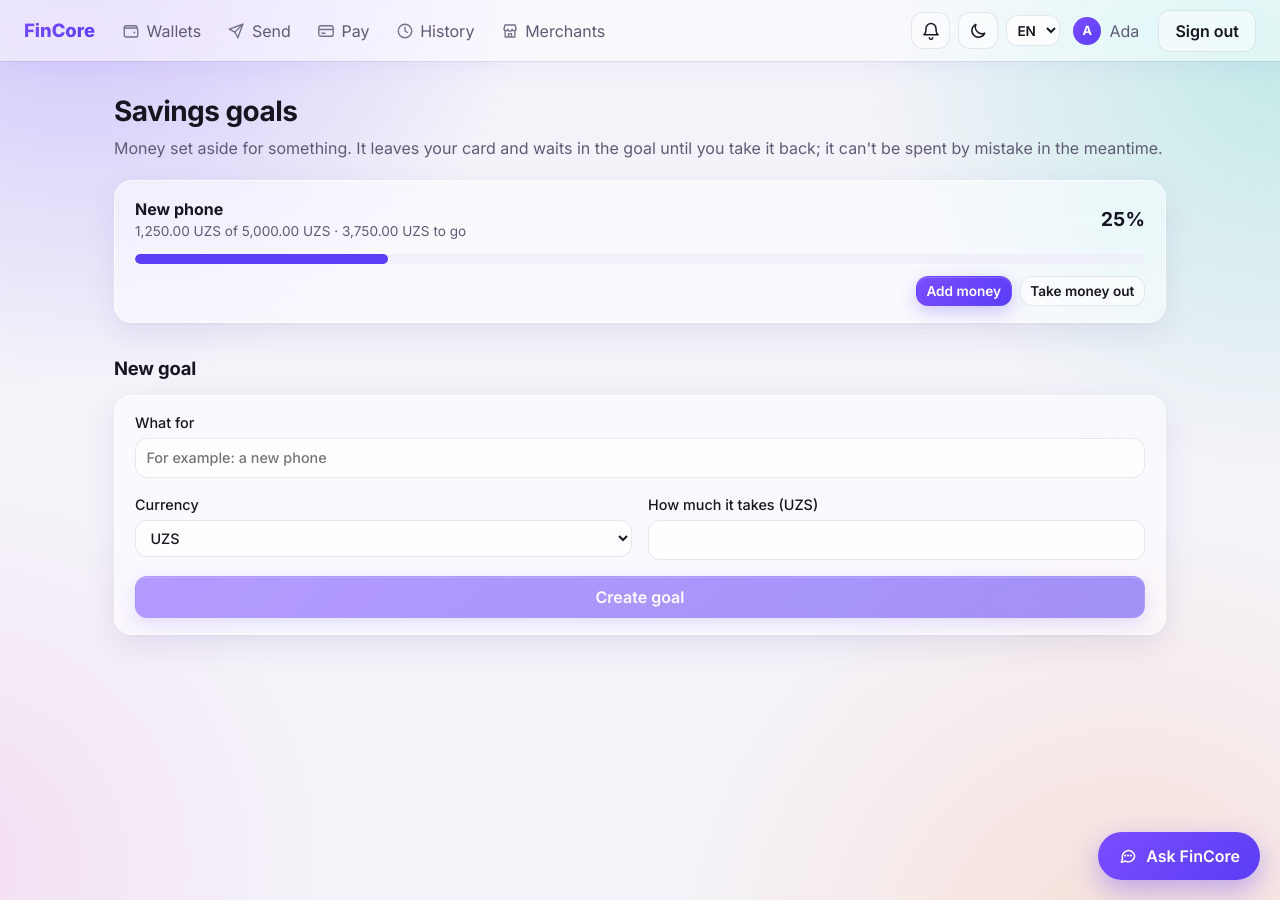
Test: savings goals › adds money from the card in the goal's currency
Click the button "Add money" at (964, 291), box [916,276,1012,306]
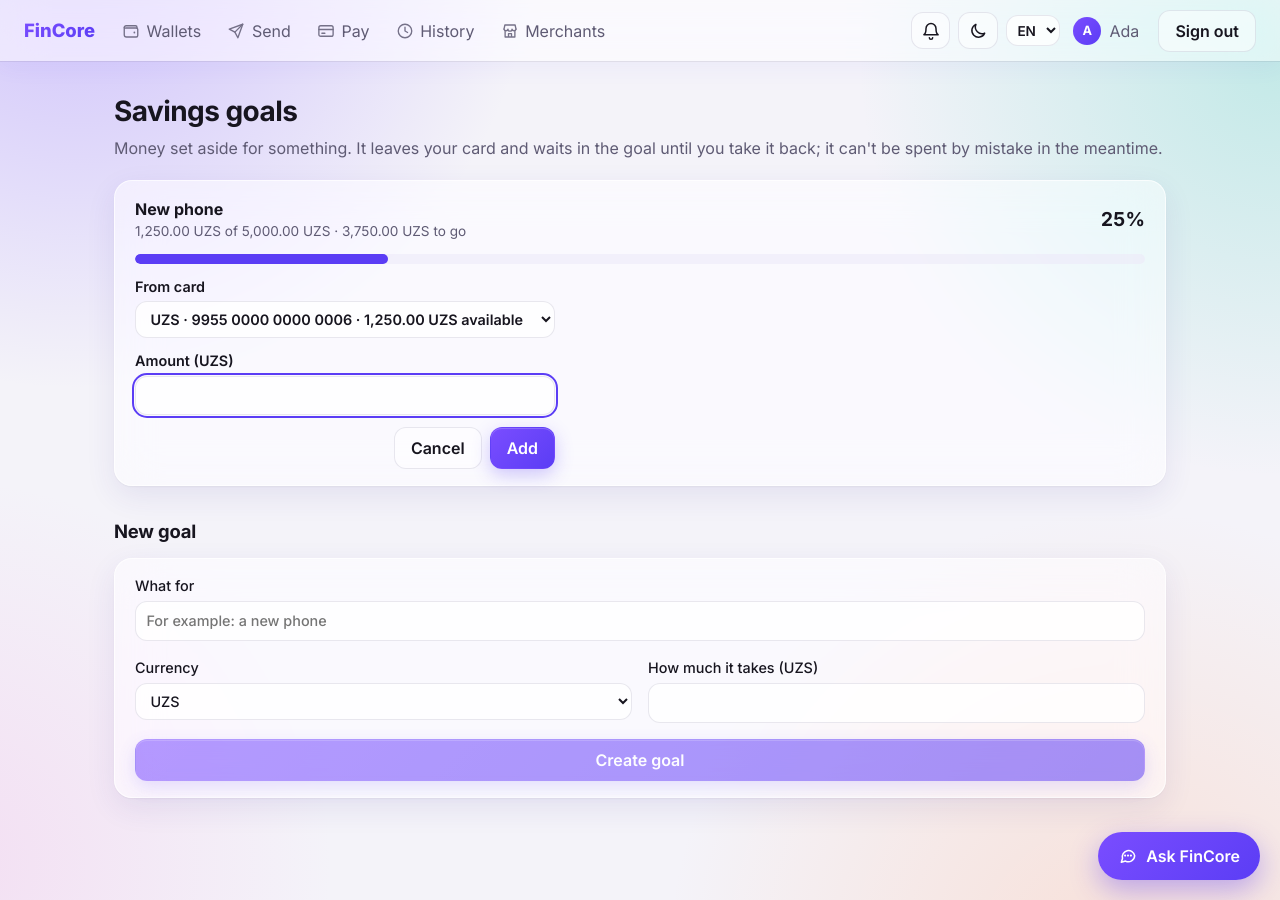
Type "300" into the field labelled "Amount (UZS)" at (345, 396), box [135,376,555,415]
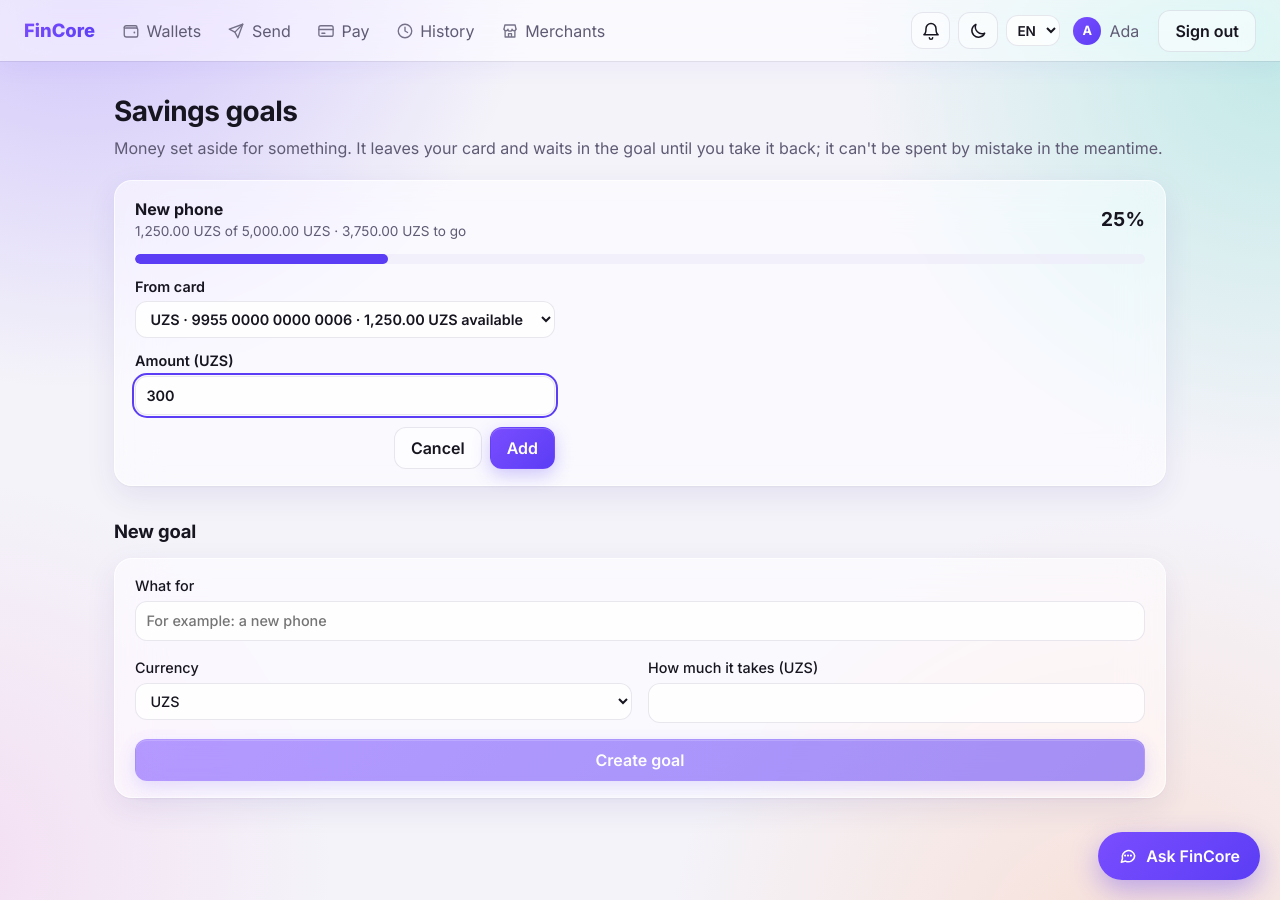
Click the button "Add" at (522, 448), box [490,427,555,469]
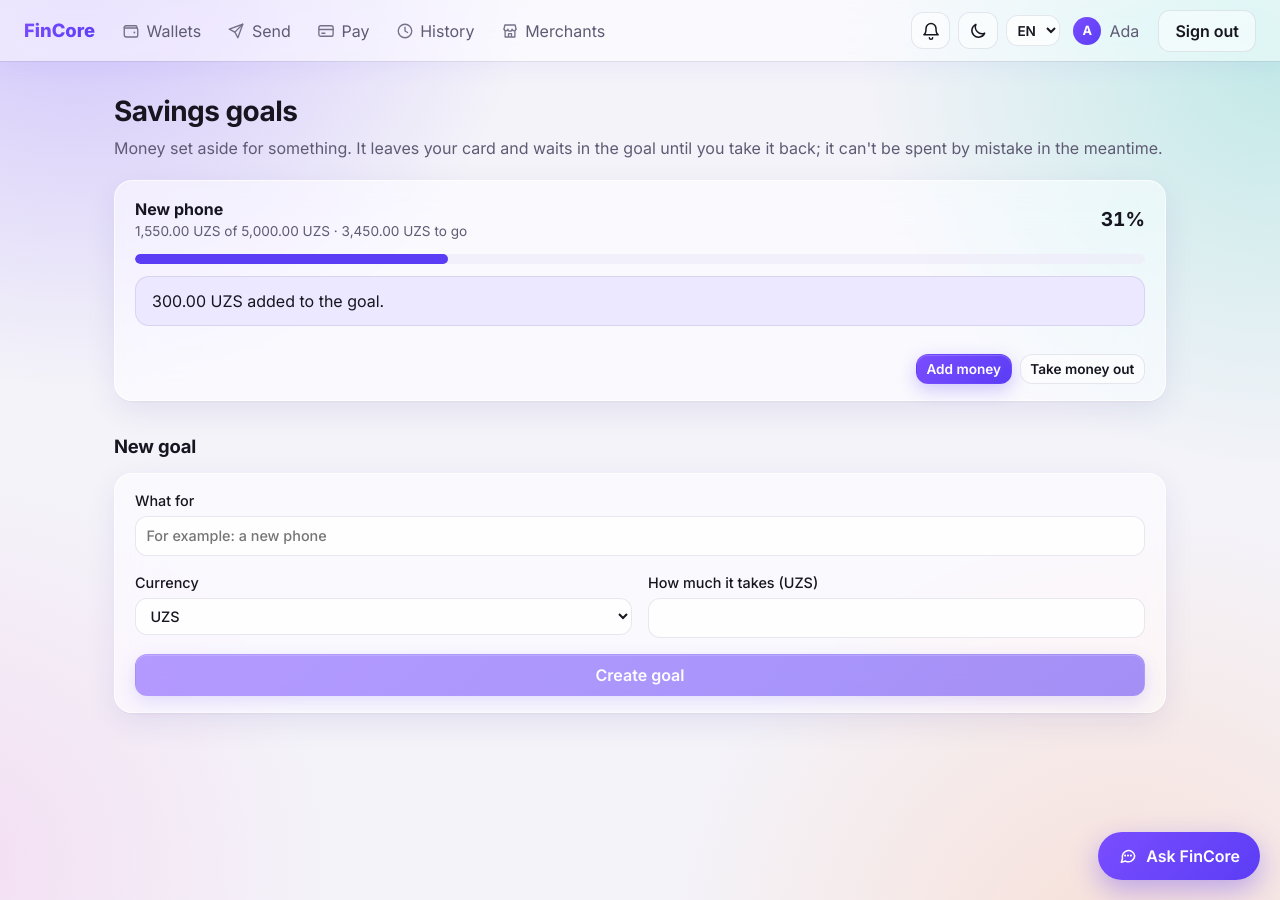
Check: the text "300.00 UZS added to the goal." is shown, box [135,276,1145,326]
Check: the progress indicator named "1,550.00 UZS of 5,000.00 UZS saved, 31%" is shown, box [135,254,1145,264]
